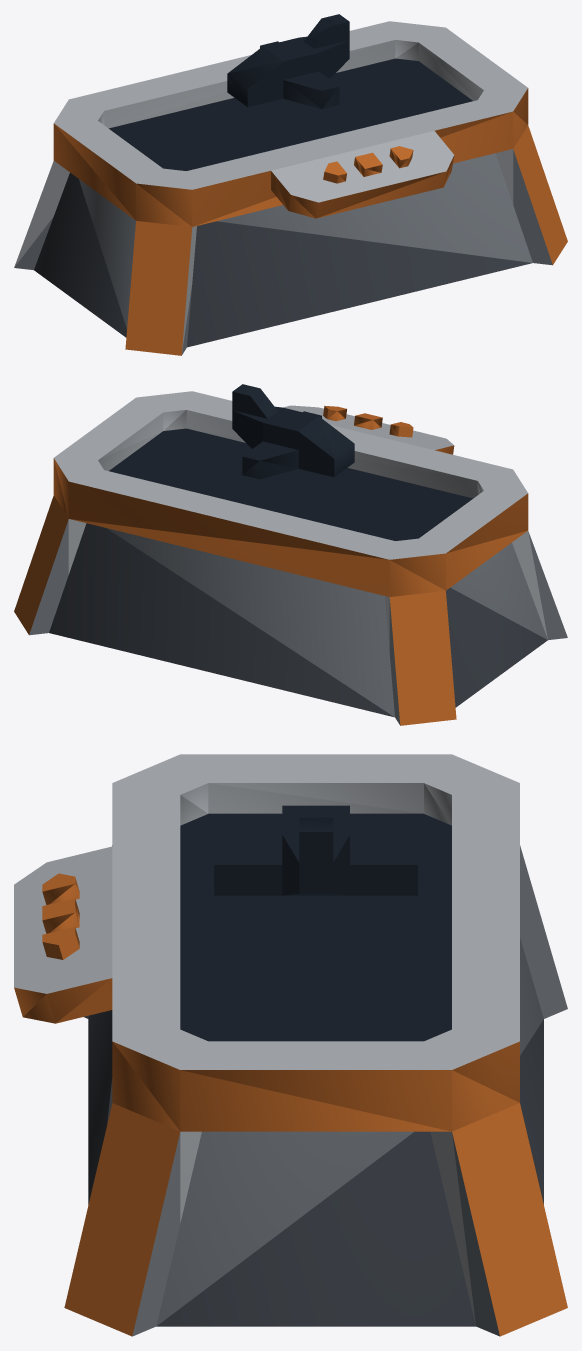
The model's file is Kit_table-display.fbx.
3 renders of one model, top to bottom at view 1: azimuth 30°, elevation 25°; view 2: azimuth 150°, elevation 25°; view 3: azimuth 270°, elevation 25°, orthographic. The views are drawn at different scales.
Visible parts, largest first — view 1: Kit_table-display; view 2: Kit_table-display; view 3: Kit_table-display.
Boxes of the visible parts, box(x1,y1,x2,y2) form: Kit_table-display: box(14, 14, 567, 355); Kit_table-display: box(14, 384, 567, 725); Kit_table-display: box(14, 754, 567, 1336).
Bounding box in the file's own units: 1.24 × 0.6 × 0.8156.
